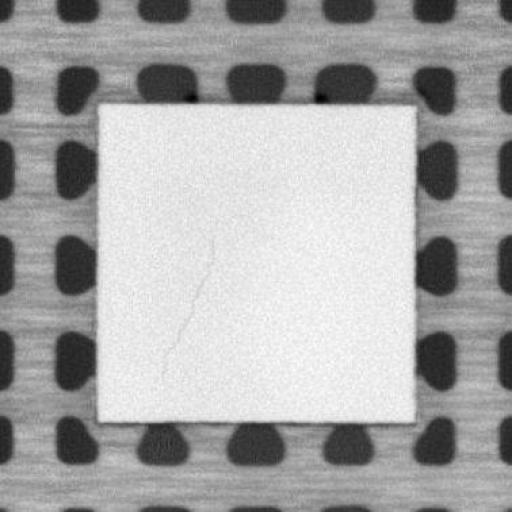DIE_CRACK: (158, 236, 216, 376)
